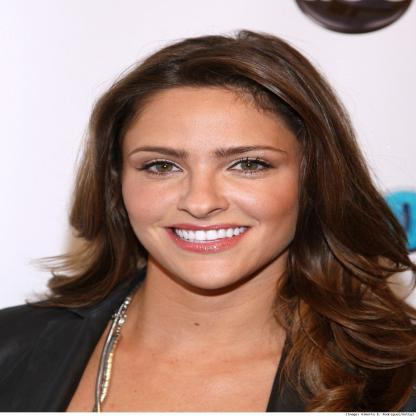long-hair: (43, 294, 412, 325)
